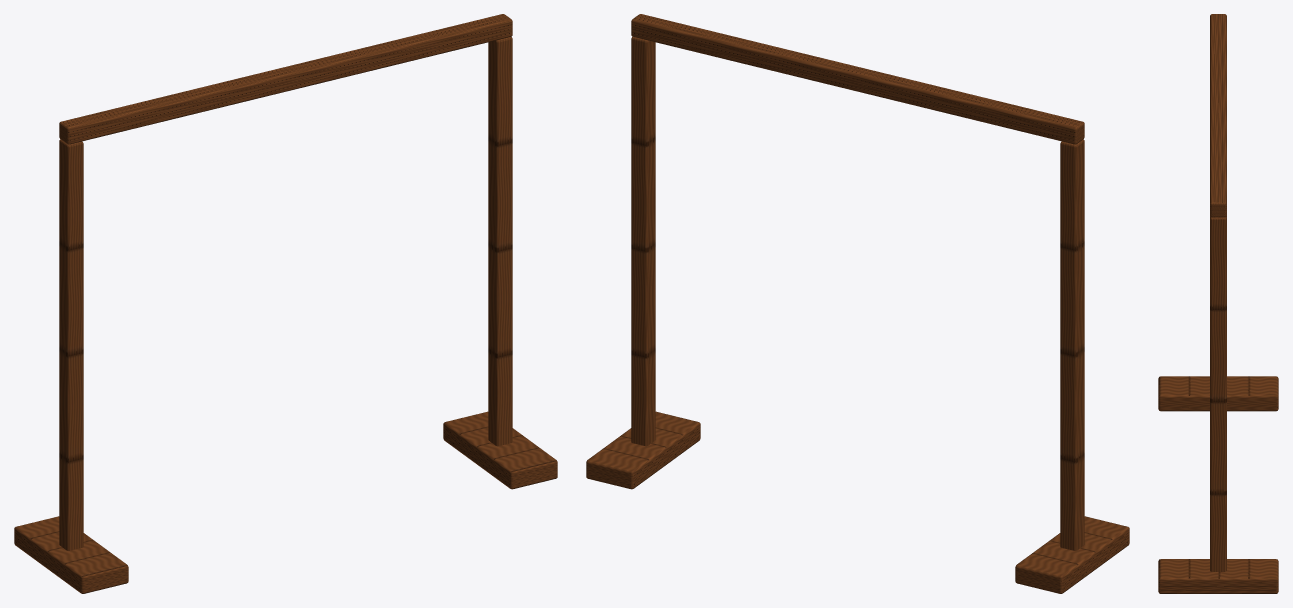
Rendered from creature-husbandry-and-transport-pen-gate-frame-d328261f__23984.glb.
The picture shows the model from 3 angles, left to right: view 1: azimuth 30°, elevation 25°; view 2: azimuth 150°, elevation 25°; view 3: azimuth 270°, elevation 25°; orthographic projection. The views are drawn at different scales.
Visible parts, largest first — view 1: pen-gate-frame; view 2: pen-gate-frame; view 3: pen-gate-frame.
Boxes of the visible parts, x1=… form: pen-gate-frame: x1=14, y1=14, x2=557, y2=593; pen-gate-frame: x1=586, y1=14, x2=1129, y2=593; pen-gate-frame: x1=1158, y1=14, x2=1278, y2=593.
Size of the model in its own units: 2 by 1.77 by 0.5001.
Materials: 1 (1 with a texture image).
